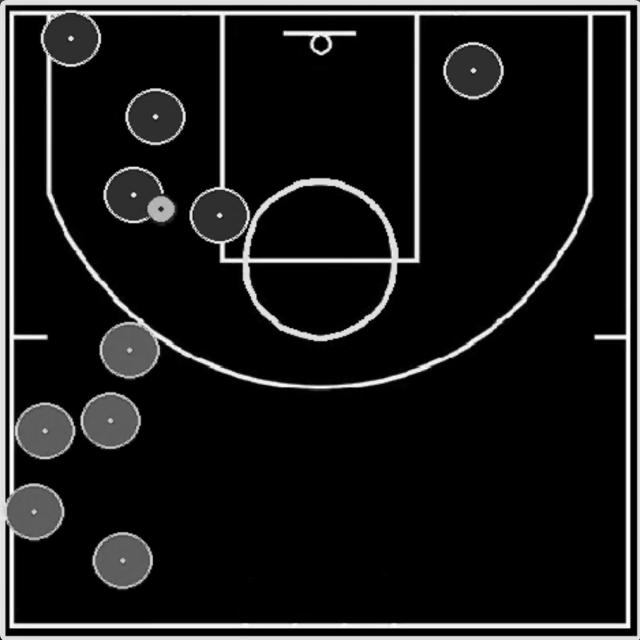Basketball: (146, 195, 176, 225)
Team_A: (443, 42, 504, 100), (104, 166, 164, 224), (41, 11, 101, 68), (125, 89, 186, 145), (190, 188, 250, 244)
Team_B: (15, 402, 76, 460), (92, 532, 153, 590), (100, 321, 160, 379), (81, 392, 141, 449), (5, 484, 64, 540)
